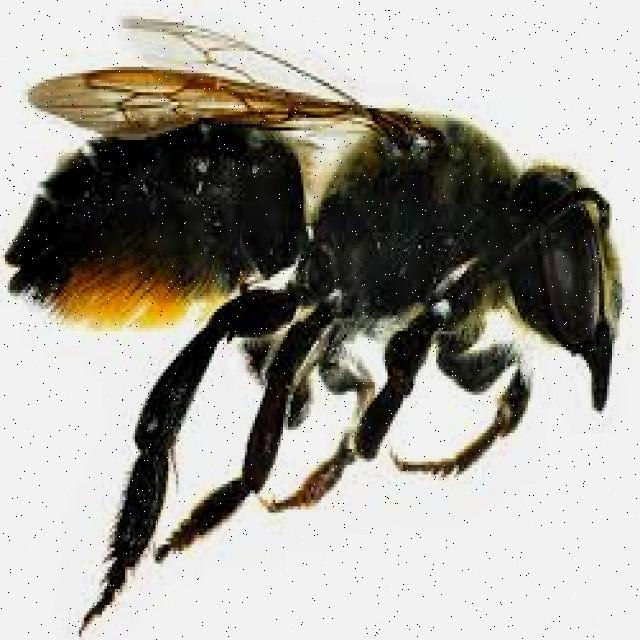Braunsapis: (9, 7, 630, 565)
